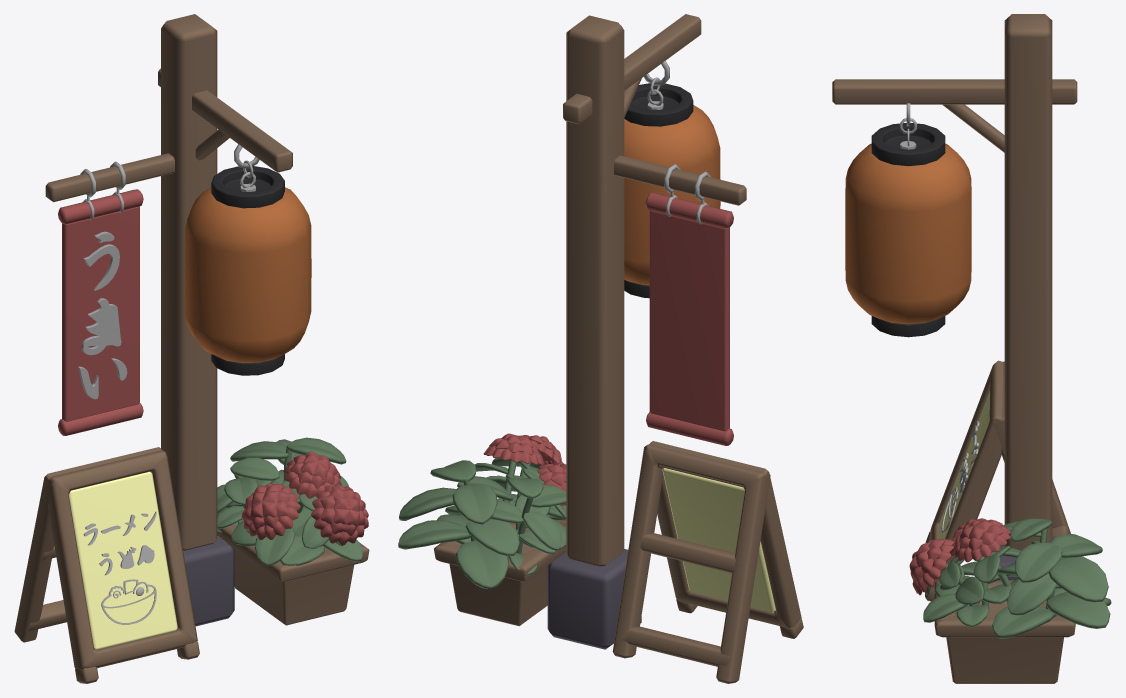
File: Ramen_Sigh.fbx
3 views of the same model, side by side, from view 1: azimuth 30°, elevation 25°; view 2: azimuth 150°, elevation 25°; view 3: azimuth 270°, elevation 25° (orthographic). The views are drawn at different scales.
Visible parts, largest first — view 1: S_RamenSign30, S_RamenSign6, M_RamenSign8, M_RamenSign7, S_RamenSign4, S_RamenSign20, S_RamenSign3, M_RamenSign6, S_RamenSign18, S_RamenSign29, S_RamenSign25, S_RamenSign17 (+11 smaller); view 2: S_RamenSign30, M_RamenSign8, S_RamenSign3, S_RamenSign22, S_RamenSign6, M_RamenSign7, S_RamenSign4, M_RamenSign6, S_RamenSign20, S_RamenSign23, S_RamenSign18, S_RamenSign17 (+7 smaller); view 3: S_RamenSign30, S_RamenSign6, S_RamenSign22, S_RamenSign20, S_RamenSign18, S_RamenSign4, S_RamenSign28, S_RamenSign7, S_RamenSign24, S_RamenSign25, M_RamenSign7, S_RamenSign23 (+4 smaller).
Boxes of the visible parts, <box> form: S_RamenSign30: <box>161,14,217,550</box>; S_RamenSign6: <box>184,187,311,363</box>; M_RamenSign8: <box>62,206,139,421</box>; M_RamenSign7: <box>68,471,177,649</box>; S_RamenSign4: <box>48,450,199,683</box>; S_RamenSign20: <box>217,524,369,625</box>; S_RamenSign3: <box>14,447,167,642</box>; M_RamenSign6: <box>183,536,234,626</box>; S_RamenSign18: <box>158,68,292,172</box>; S_RamenSign29: <box>78,231,127,399</box>; S_RamenSign25: <box>311,483,368,545</box>; S_RamenSign17: <box>45,153,174,202</box>; S_RamenSign30: <box>566,15,624,566</box>; M_RamenSign8: <box>649,210,729,431</box>; S_RamenSign3: <box>612,444,770,683</box>; S_RamenSign22: <box>398,460,519,589</box>; S_RamenSign6: <box>624,105,720,285</box>; M_RamenSign7: <box>662,468,775,612</box>; S_RamenSign4: <box>643,441,803,638</box>; M_RamenSign6: <box>547,549,641,649</box>; S_RamenSign20: <box>434,520,566,626</box>; S_RamenSign23: <box>490,478,566,575</box>; S_RamenSign18: <box>563,14,701,124</box>; S_RamenSign17: <box>614,155,746,205</box>; S_RamenSign30: <box>1004,14,1052,550</box>; S_RamenSign6: <box>845,143,971,324</box>; S_RamenSign22: <box>992,534,1111,638</box>; S_RamenSign20: <box>934,580,1075,683</box>; S_RamenSign18: <box>832,79,1077,152</box>; S_RamenSign4: <box>925,360,1002,601</box>; S_RamenSign28: <box>923,557,989,627</box>; S_RamenSign7: <box>871,123,945,166</box>; S_RamenSign24: <box>954,520,1011,562</box>; S_RamenSign25: <box>909,539,954,595</box>; M_RamenSign7: <box>938,391,989,539</box>; S_RamenSign23: <box>1001,518,1052,557</box>.
Size of the model in its own units: 432 by 782 by 327.
